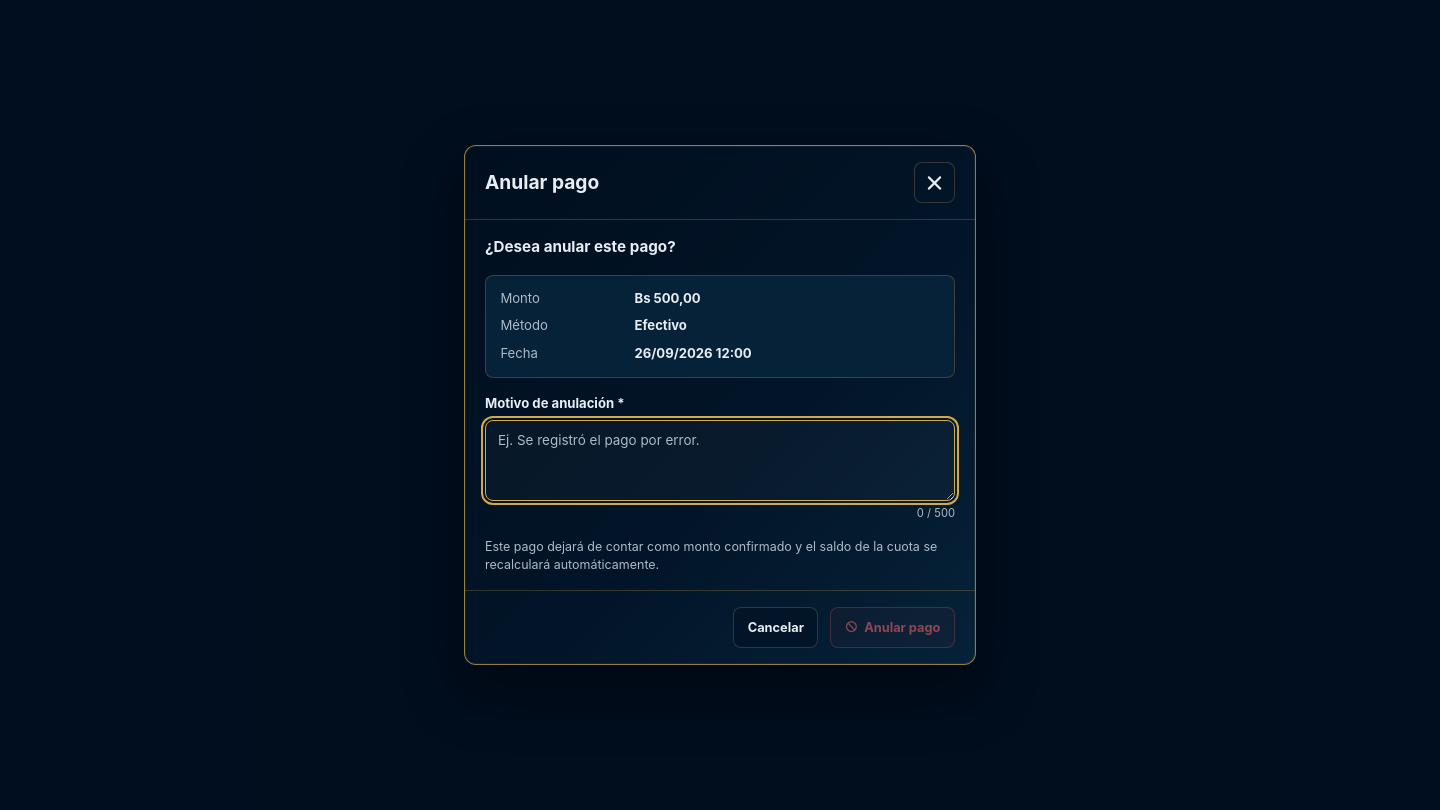
AnularPagoModalComponent › keeps the dialog open and handles HTTP 400 using ProblemDetail
Type "Motivo correcto" into the text box with id "annul-reason".
click(720, 460); type("Motivo correcto")  # box [485,420,955,501]
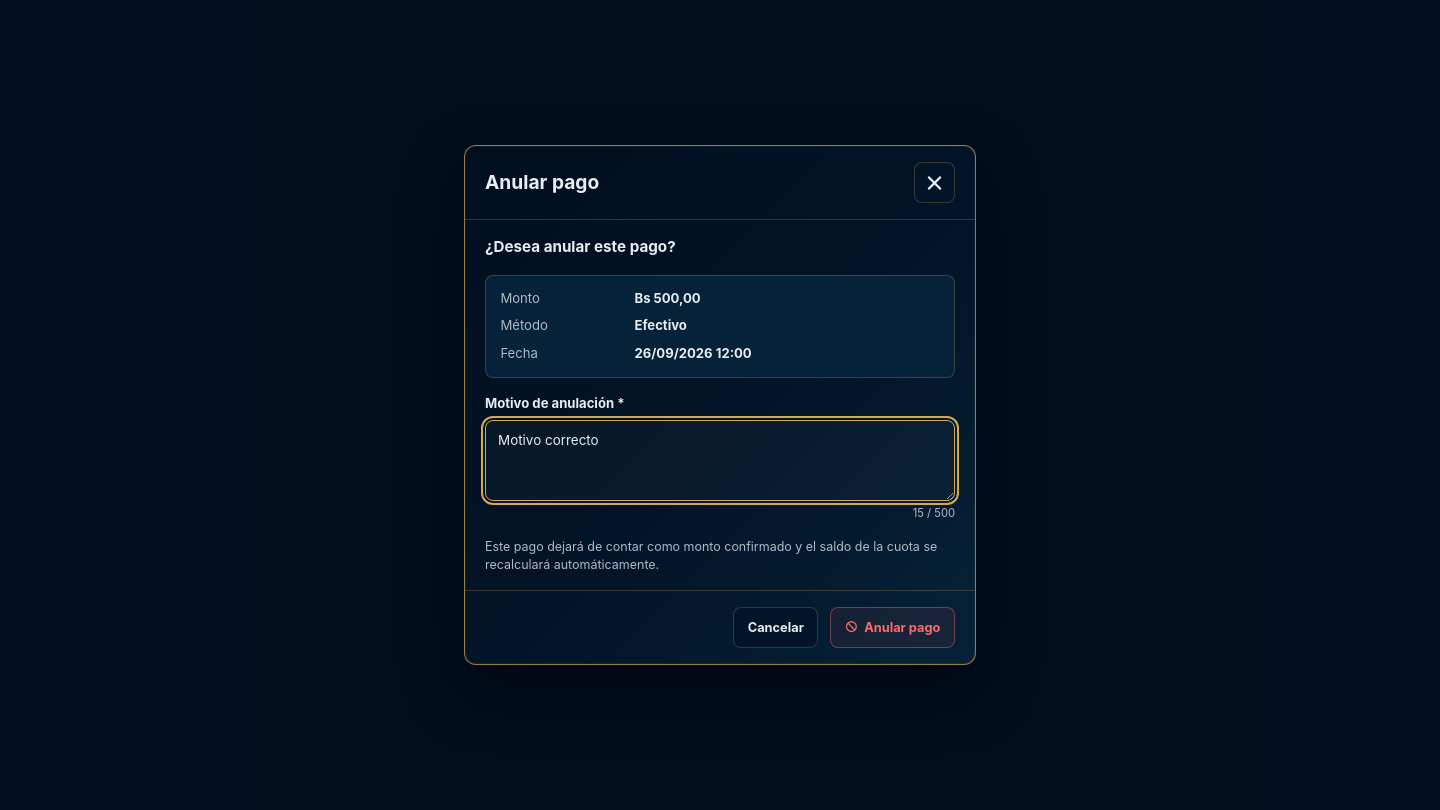
Click the button with class "confirm-annul-button".
click(893, 627)  # box [830,607,955,648]
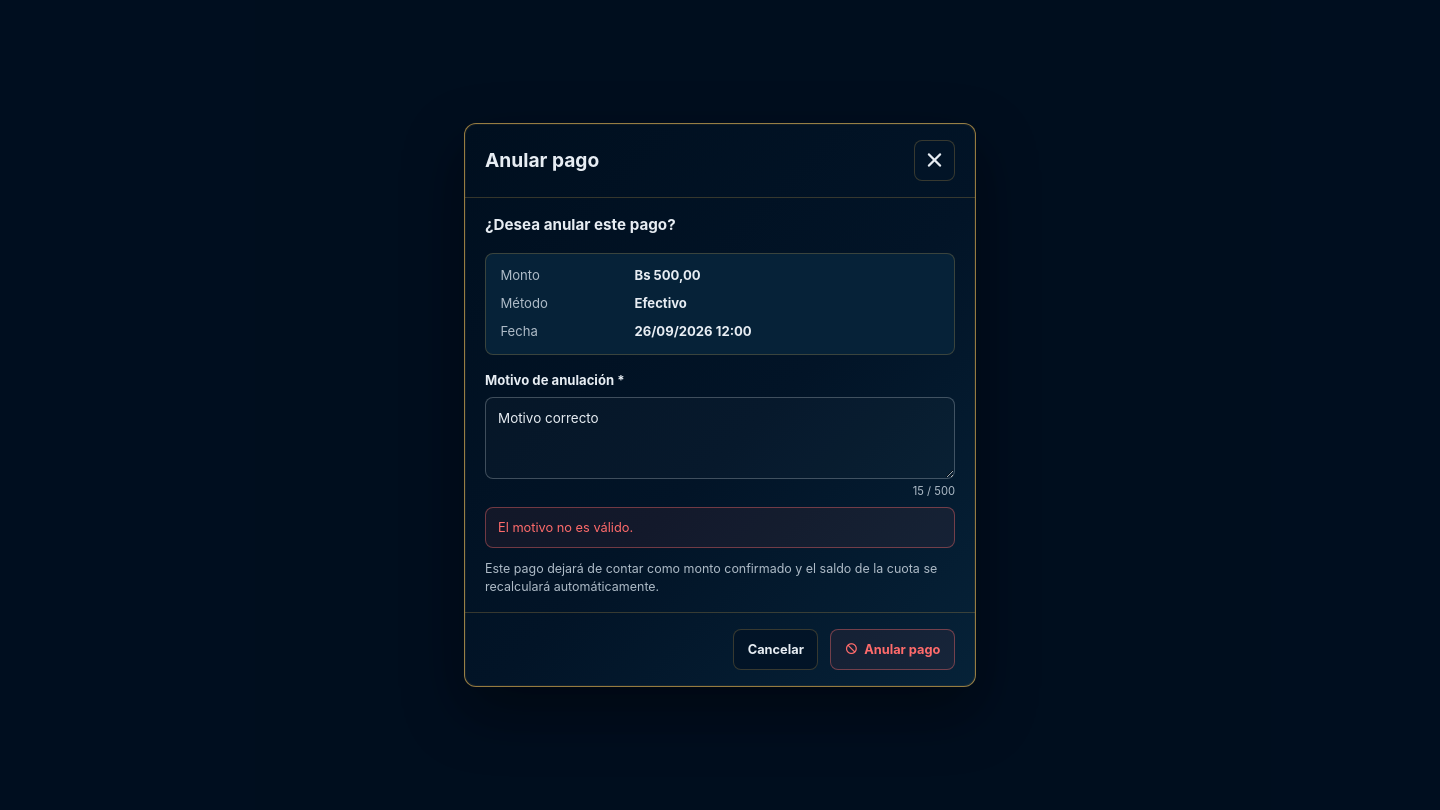
Expected: the dialog is shown, [464,123,976,687]
Expected: the message "El motivo no es válido." is shown, [485,507,955,548]
